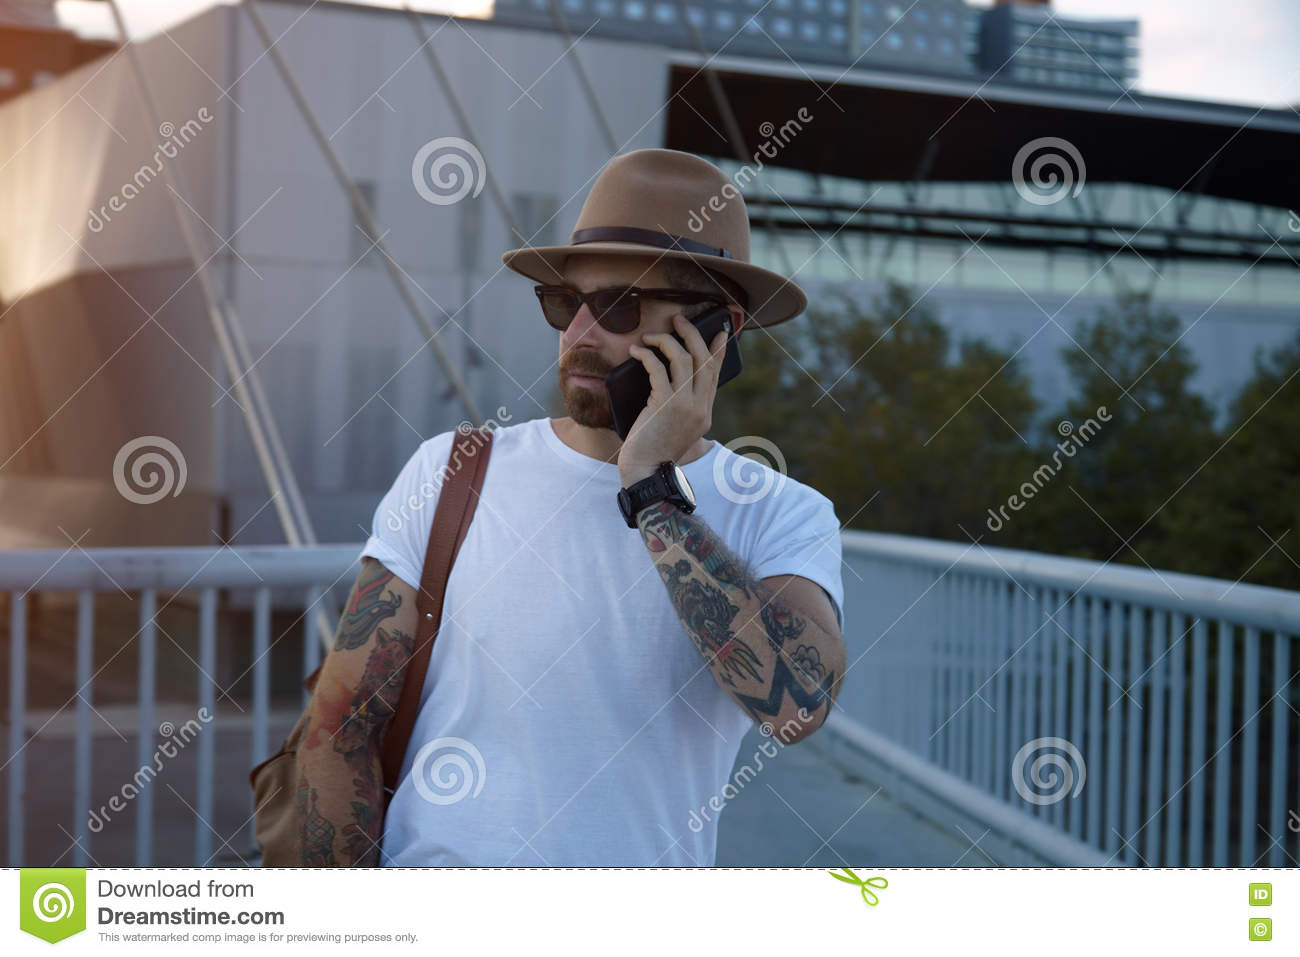phone: (610, 312, 741, 440)
talk: (553, 270, 742, 484)
